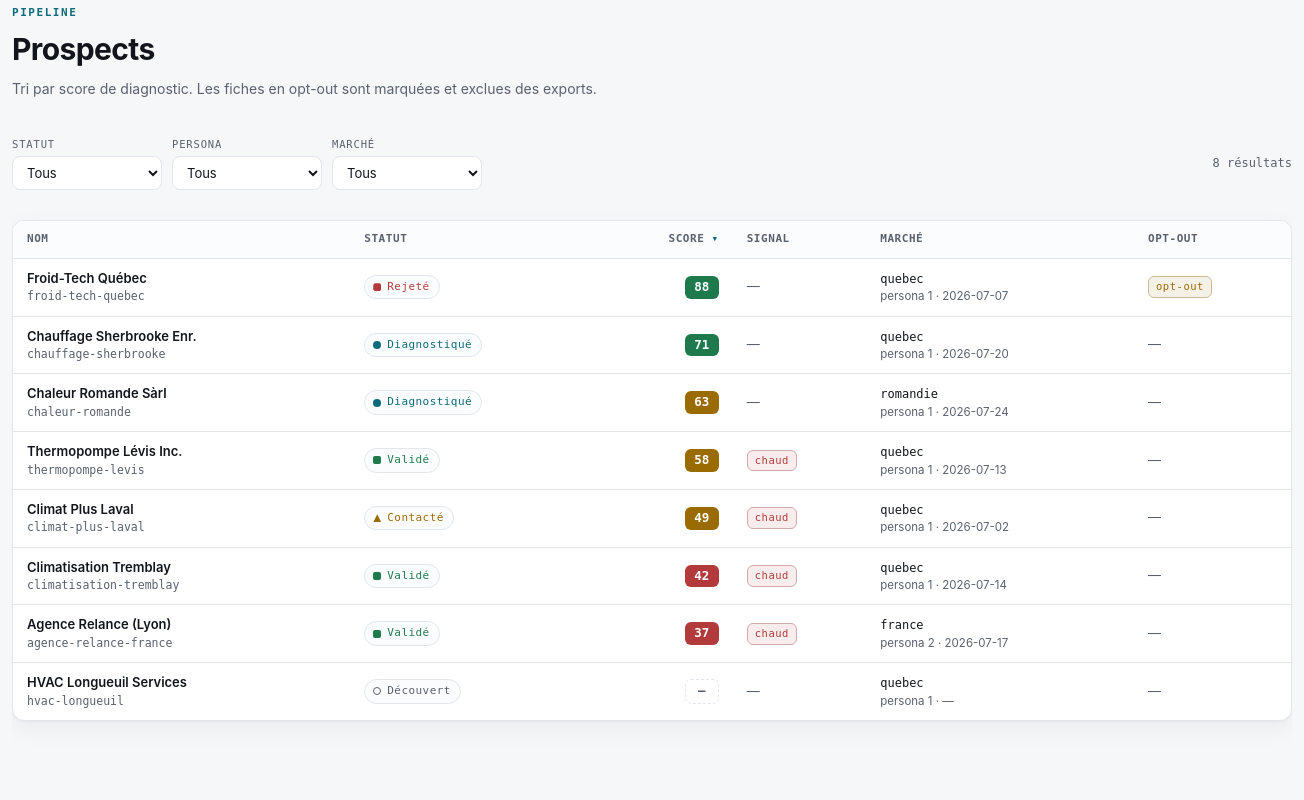
Test: Prospects (table filtrable) › filtre par persona 2
The width and height of the screenshot is (1304, 800).
Expected: the text "Climatisation Tremblay" is shown, left=27, top=558, right=171, bottom=574
Select "Persona 2" in the dropdown labelled "Persona" at {"x": 247, "y": 173}, box left=172, top=156, right=322, bottom=190
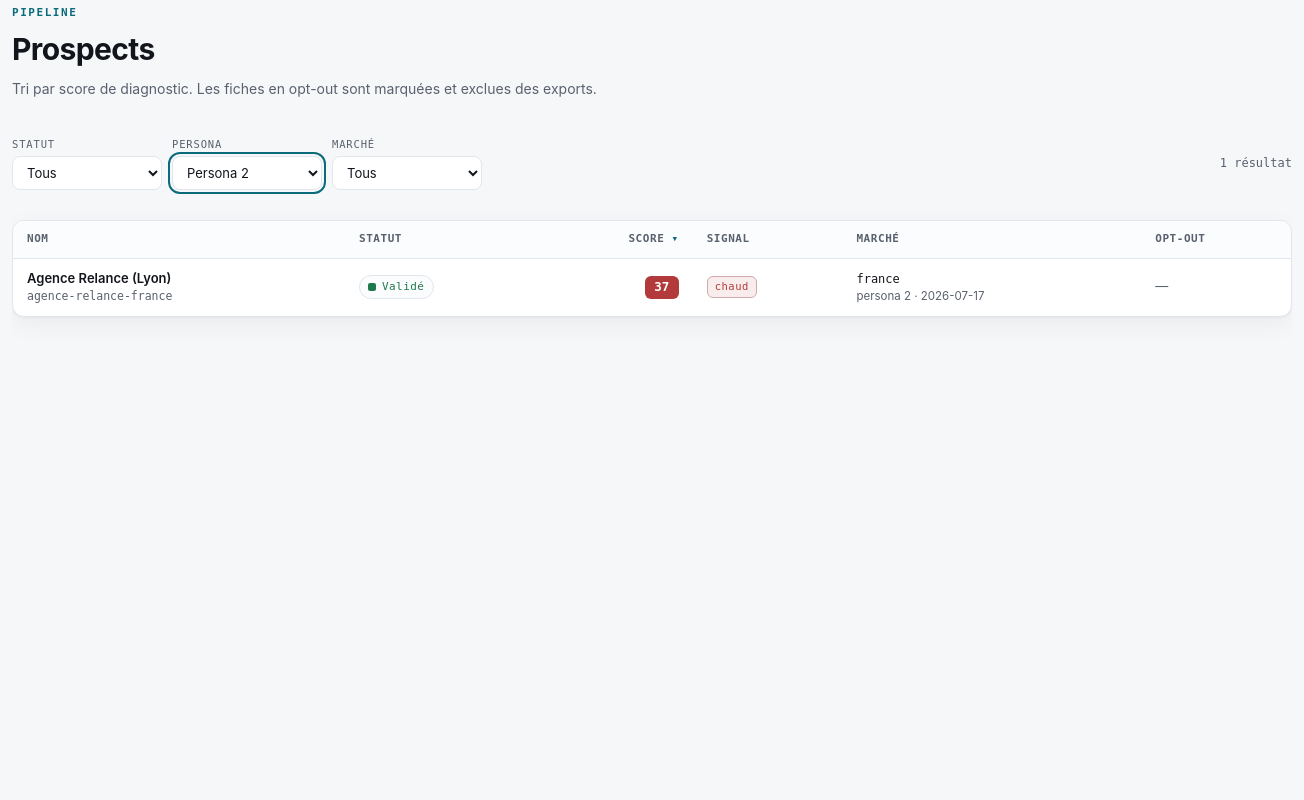
Expected: the text "Agence Relance (Lyon)" is shown, left=27, top=270, right=171, bottom=286
Expected: the text "Climatisation Tremblay" is gone
Expected: the text "1 résultat" is shown, left=1220, top=154, right=1292, bottom=172
